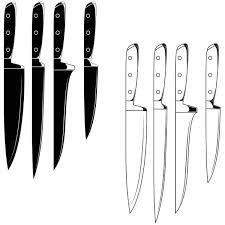Knife: (124, 42, 146, 213), (174, 43, 196, 213), (52, 1, 74, 169), (3, 1, 24, 169), (152, 43, 167, 222), (31, 1, 44, 178), (204, 43, 220, 182), (83, 1, 98, 138)
